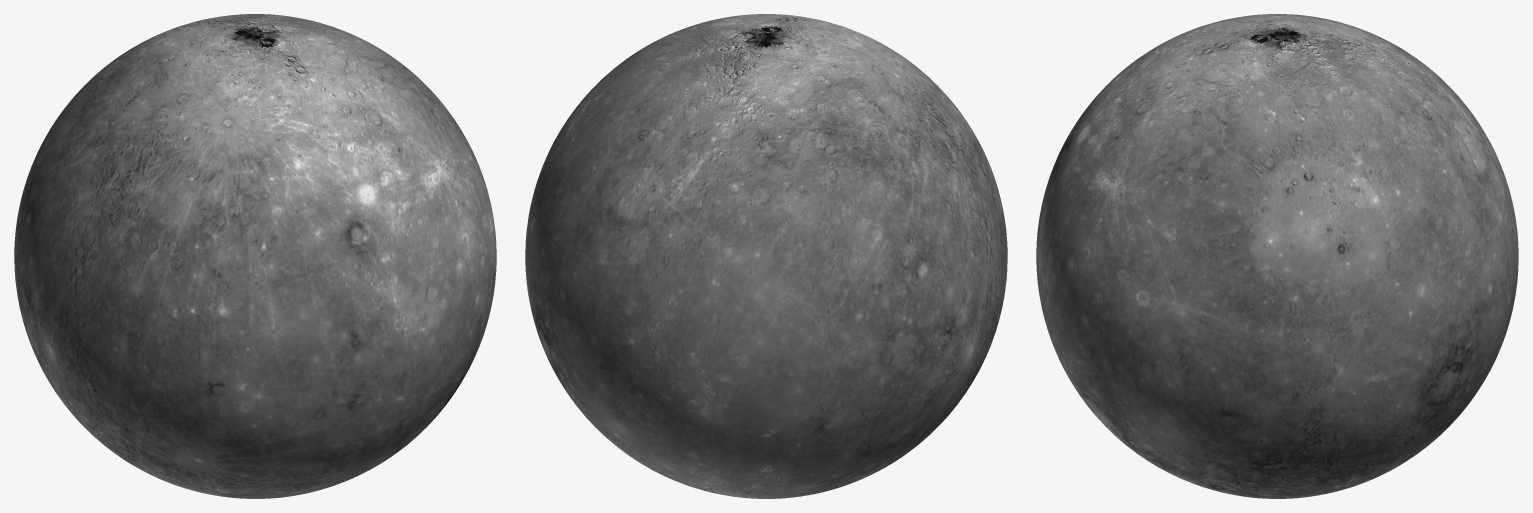
The model's file is mercury.glb.
The picture shows the model from 3 angles, left to right: view 1: azimuth 30°, elevation 25°; view 2: azimuth 150°, elevation 25°; view 3: azimuth 270°, elevation 25°; orthographic projection.
Visible parts, largest first — view 1: Mercury; view 2: Mercury; view 3: Mercury.
Boxes of the visible parts, x1,y1,x2,y2 form: Mercury: (14,14,496,498); Mercury: (525,14,1007,498); Mercury: (1036,14,1518,498).
Size of the model in its own units: 1.97 by 2 by 1.97.
1 material, 1 textured.
